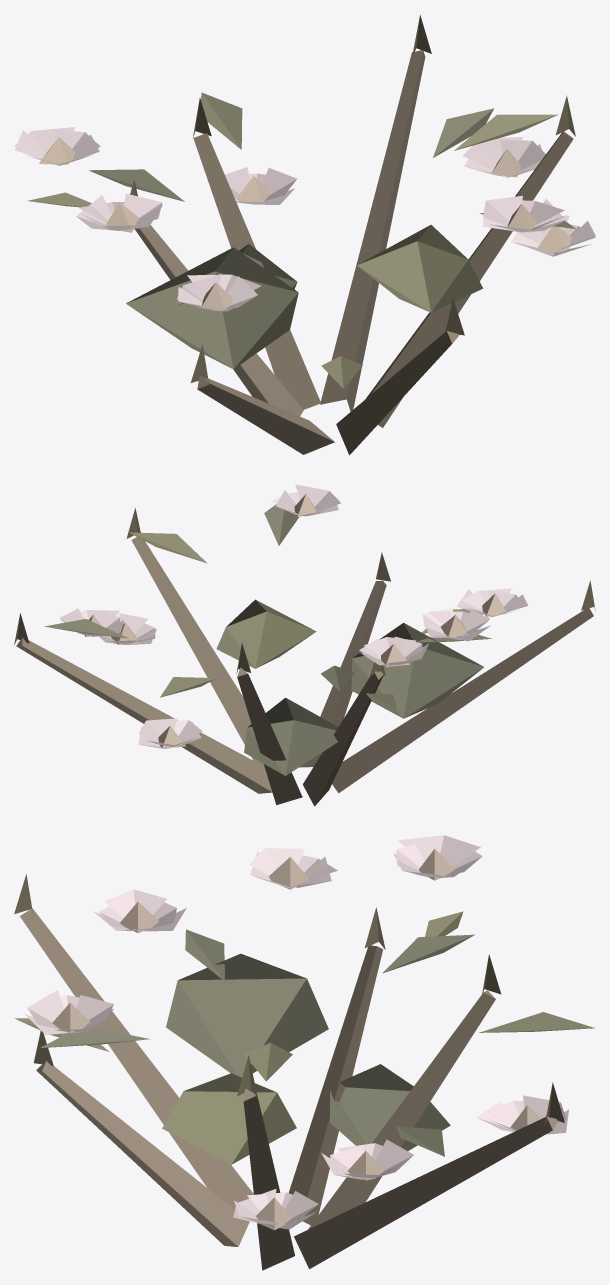
Rendered from cao.hanji@flowering__winter.glb.
3 renders of one model, top to bottom at view 1: azimuth 30°, elevation 25°; view 2: azimuth 150°, elevation 25°; view 3: azimuth 270°, elevation 25°, orthographic. The views are drawn at different scales.
Parts seen in each view (by area): view 1: cao.hanji@flowering__winter; view 2: cao.hanji@flowering__winter; view 3: cao.hanji@flowering__winter.
Boxes of the visible parts, left/top/right/bottom form: cao.hanji@flowering__winter: left=14, top=15, right=595, bottom=455; cao.hanji@flowering__winter: left=14, top=484, right=595, bottom=806; cao.hanji@flowering__winter: left=14, top=835, right=595, bottom=1270.
Size of the model in its own units: 2.12 by 1.17 by 1.99.
